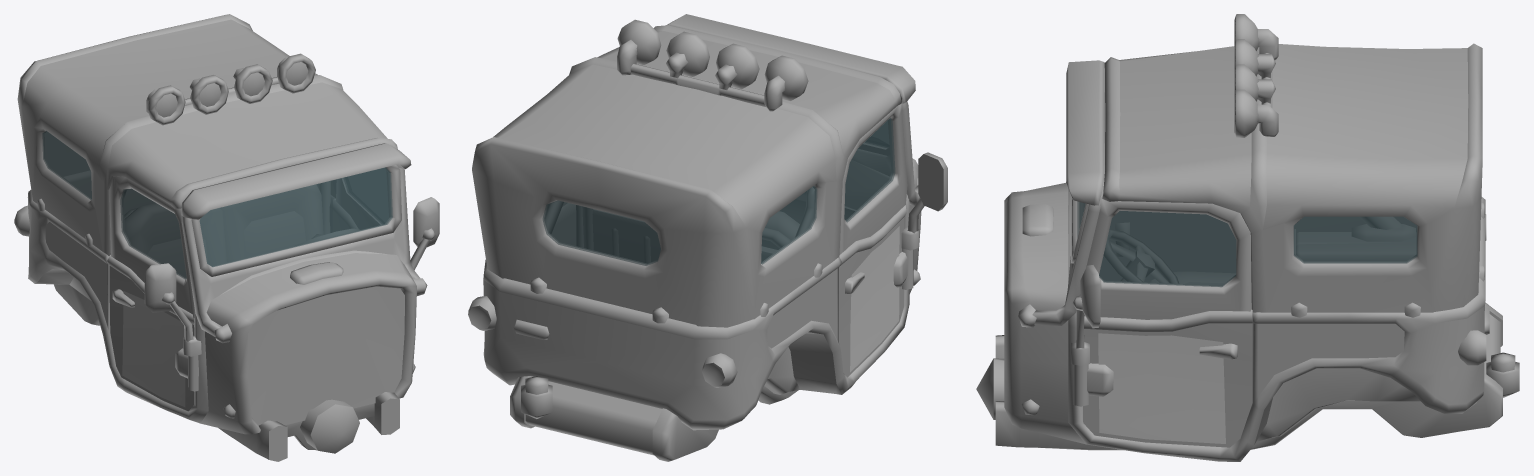
The model's file is Body_Geep.fbx.
3 renders of one model, left to right at view 1: azimuth 30°, elevation 25°; view 2: azimuth 150°, elevation 25°; view 3: azimuth 270°, elevation 25°, orthographic. The views are drawn at different scales.
Visible parts, largest first — view 1: Geep_Body, Geep_Body_Roof, Geep_Body_Windshield, Geep_Body_Windshield_Window, Geep_Body_Door_Right_Decal, Geep_Top_Lights, Geep_Body_Door_Right_Top_Window, Geep_Body_Door_Right_Top, Geep_Body_Door_Right, Geep_Body_Roof_Window, Geep_Body_Door_Left_Top_Window, Geep_Body_Door_Left_Top (+1 smaller); view 2: Geep_Body_Roof, Geep_Body, Geep_Top_Lights, Geep_Body_Roof_Window, Geep_Body_Windshield, Geep_Body_Door_Right_Decal, Geep_Body_Door_Right_Top, Geep_Body_Door_Right, Geep_Body_Door_Right_Top_Window; view 3: Geep_Body_Roof, Geep_Body, Geep_Body_Door_Left_Decal, Geep_Body_Door_Left_Top_Window, Geep_Body_Door_Left, Geep_Body_Door_Left_Top, Geep_Body_Windshield, Geep_Body_Door_Right, Geep_Body_Roof_Window, Geep_Top_Lights, Geep_Body_SteerWheel.
Boxes of the visible parts, left/top/right/bottom form: Geep_Body: left=14, top=170, right=439, bottom=461; Geep_Body_Roof: left=17, top=14, right=397, bottom=255; Geep_Body_Windshield: left=181, top=143, right=419, bottom=336; Geep_Body_Windshield_Window: left=199, top=167, right=392, bottom=266; Geep_Body_Door_Right_Decal: left=122, top=291, right=185, bottom=406; Geep_Top_Lights: left=146, top=53, right=315, bottom=125; Geep_Body_Door_Right_Top_Window: left=120, top=188, right=186, bottom=279; Geep_Body_Door_Right_Top: left=109, top=176, right=195, bottom=319; Geep_Body_Door_Right: left=107, top=255, right=194, bottom=411; Geep_Body_Roof_Window: left=42, top=131, right=91, bottom=199; Geep_Body_Door_Left_Top_Window: left=345, top=168, right=388, bottom=223; Geep_Body_Door_Left_Top: left=336, top=171, right=389, bottom=229; Geep_Body_Roof: left=472, top=25, right=902, bottom=327; Geep_Body: left=468, top=152, right=947, bottom=461; Geep_Top_Lights: left=617, top=19, right=808, bottom=111; Geep_Body_Roof_Window: left=542, top=186, right=817, bottom=265; Geep_Body_Windshield: left=666, top=14, right=920, bottom=205; Geep_Body_Door_Right_Decal: left=850, top=226, right=899, bottom=372; Geep_Body_Door_Right_Top: left=839, top=103, right=907, bottom=254; Geep_Body_Door_Right: left=839, top=205, right=907, bottom=377; Geep_Body_Door_Right_Top_Window: left=844, top=118, right=895, bottom=222; Geep_Body_Roof: left=1102, top=43, right=1484, bottom=317; Geep_Body: left=976, top=183, right=1519, bottom=461; Geep_Body_Door_Left_Decal: left=1098, top=333, right=1225, bottom=443; Geep_Body_Door_Left_Top_Window: left=1099, top=211, right=1236, bottom=287; Geep_Body_Door_Left: left=1083, top=309, right=1252, bottom=447; Geep_Body_Door_Left_Top: left=1080, top=196, right=1251, bottom=319; Geep_Body_Windshield: left=1032, top=60, right=1105, bottom=325; Geep_Body_Door_Right: left=1085, top=204, right=1235, bottom=282; Geep_Body_Roof_Window: left=1293, top=216, right=1417, bottom=263; Geep_Top_Lights: left=1234, top=14, right=1278, bottom=137; Geep_Body_SteerWheel: left=1104, top=229, right=1178, bottom=283.
Bounding box in the file's own units: 201 × 203 × 271.
